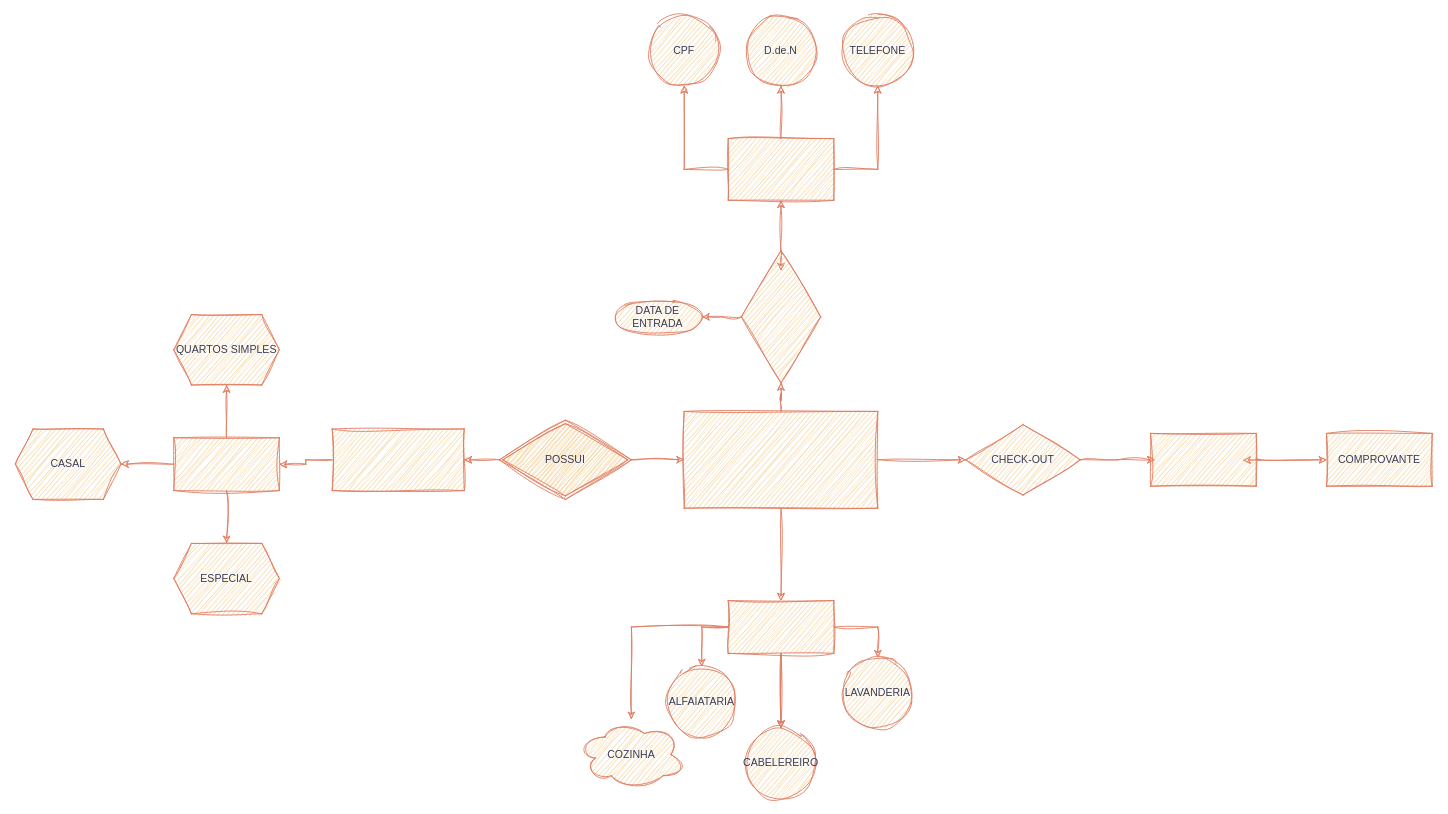
The diagram is 1448 pixels wide and 814 high, and some of its shapes have lost their labels. The shapes that lost their labels are listed below. From the top down, each one's box as (x1, y1, x2, y2) in pixels, then its label:
(727, 138, 834, 200): HOSPEDES
(741, 250, 821, 383): CHECK-IN
(173, 437, 279, 491): TIPOS
(331, 428, 464, 491): QUARTO
(683, 411, 878, 508): HOTEL
(1150, 433, 1256, 486): NOTA FISCAL
(727, 600, 834, 653): CALCULAR ESTADIA
